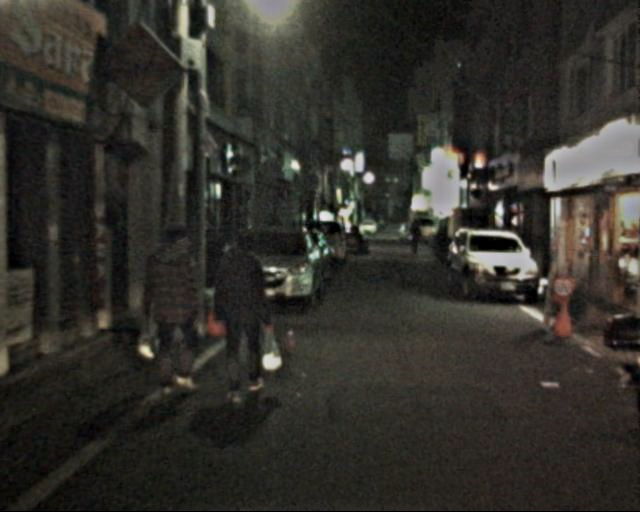person: (208, 226, 280, 401), (141, 224, 210, 392), (409, 219, 425, 256)
